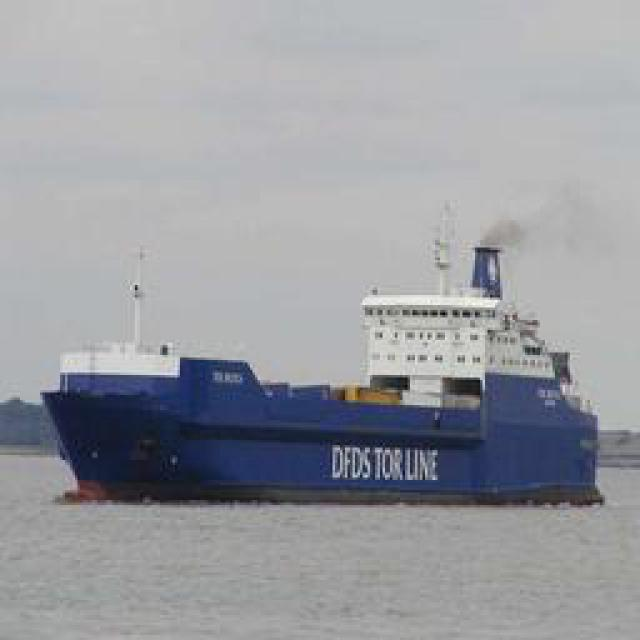Ship: (44, 248, 599, 506)
